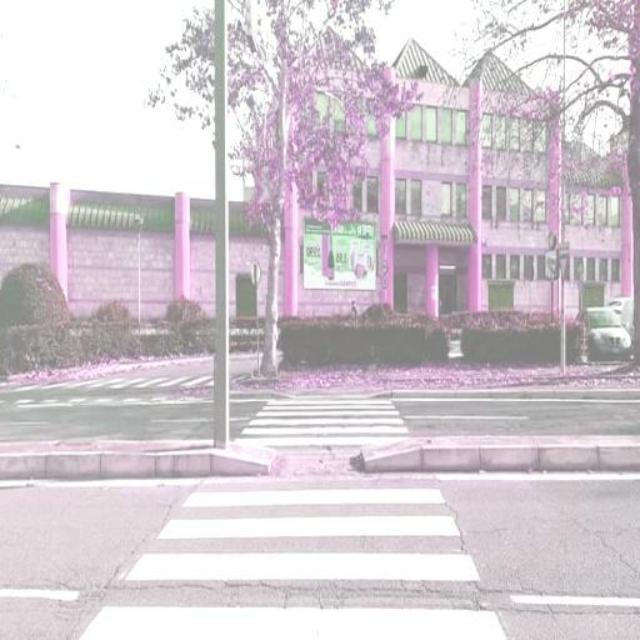sidewalk: (75, 387, 507, 640), (30, 375, 240, 387)
